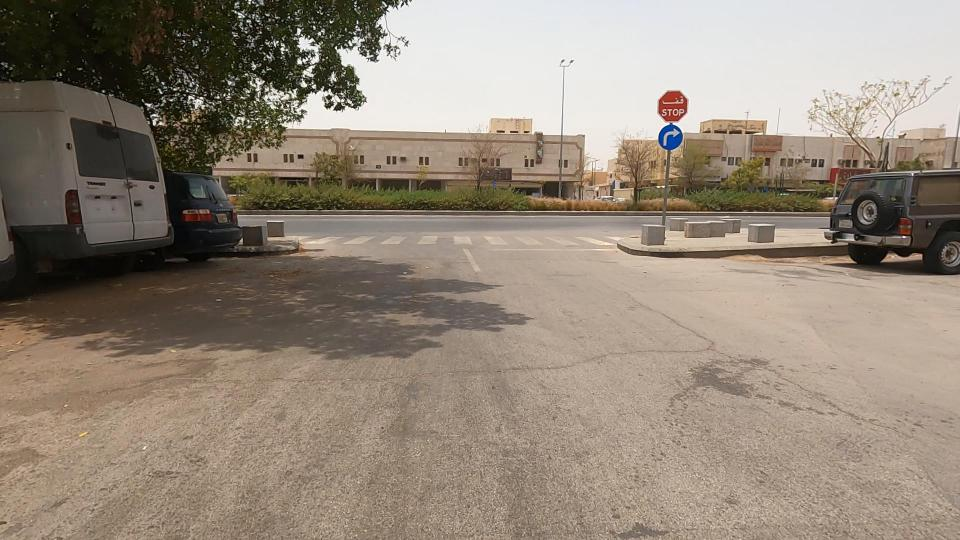BAD_BILLBOARD: (711, 116, 820, 178), (661, 114, 751, 184), (447, 148, 538, 195)
